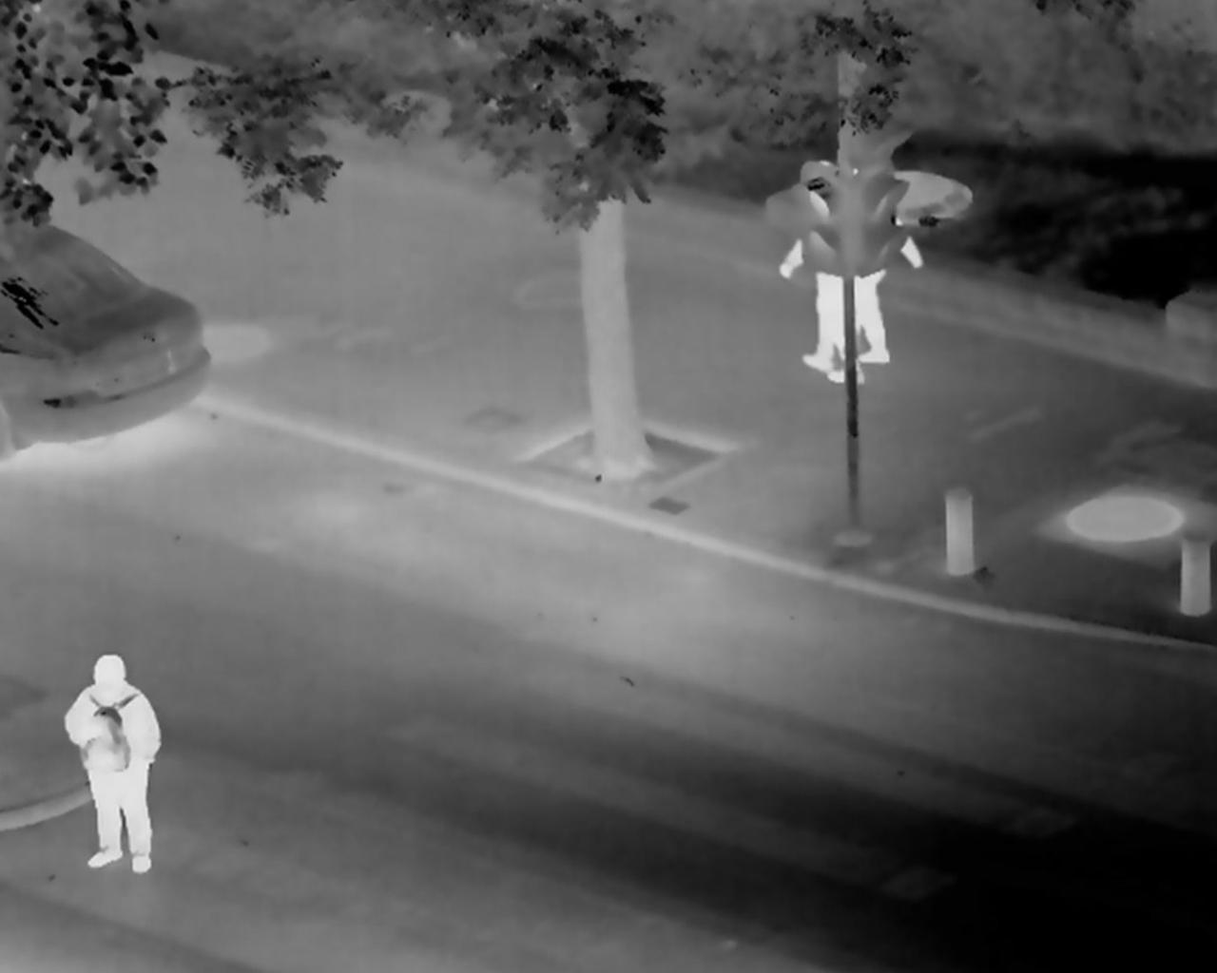person: (59, 641, 166, 874), (787, 196, 895, 376)
